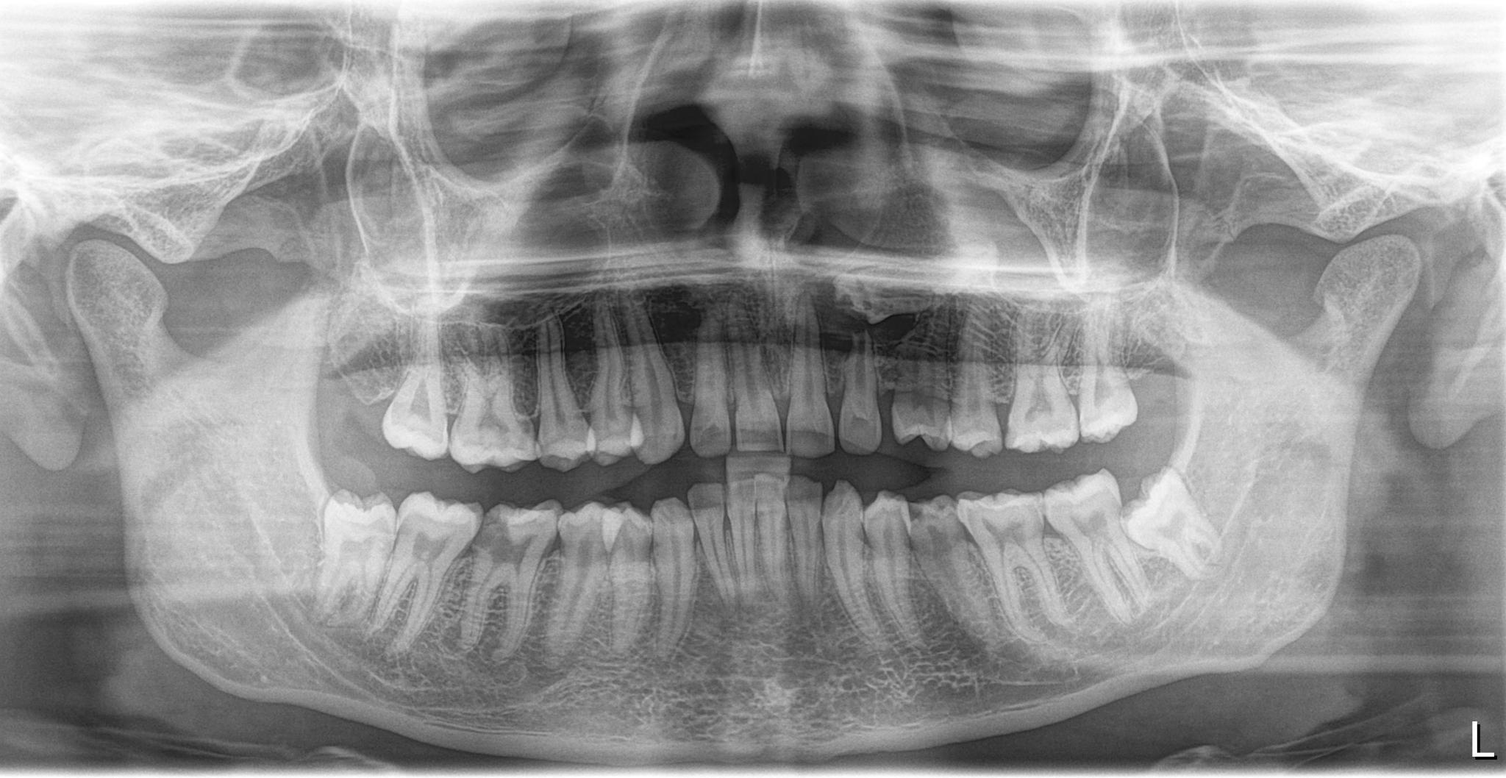Impacted Third Molar: (1131, 476, 1216, 577)
Missing Tooth: (331, 322, 390, 448), (1127, 342, 1189, 424)
